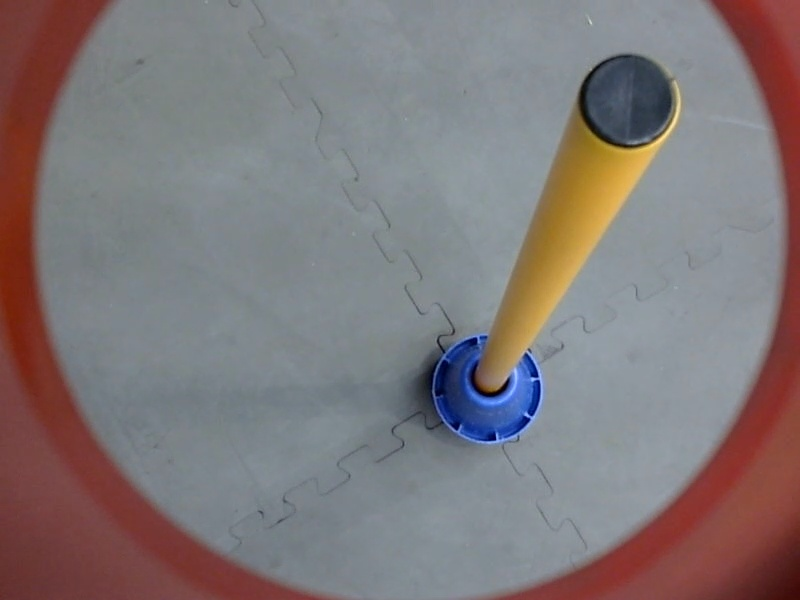tip: (574, 48, 687, 152)
